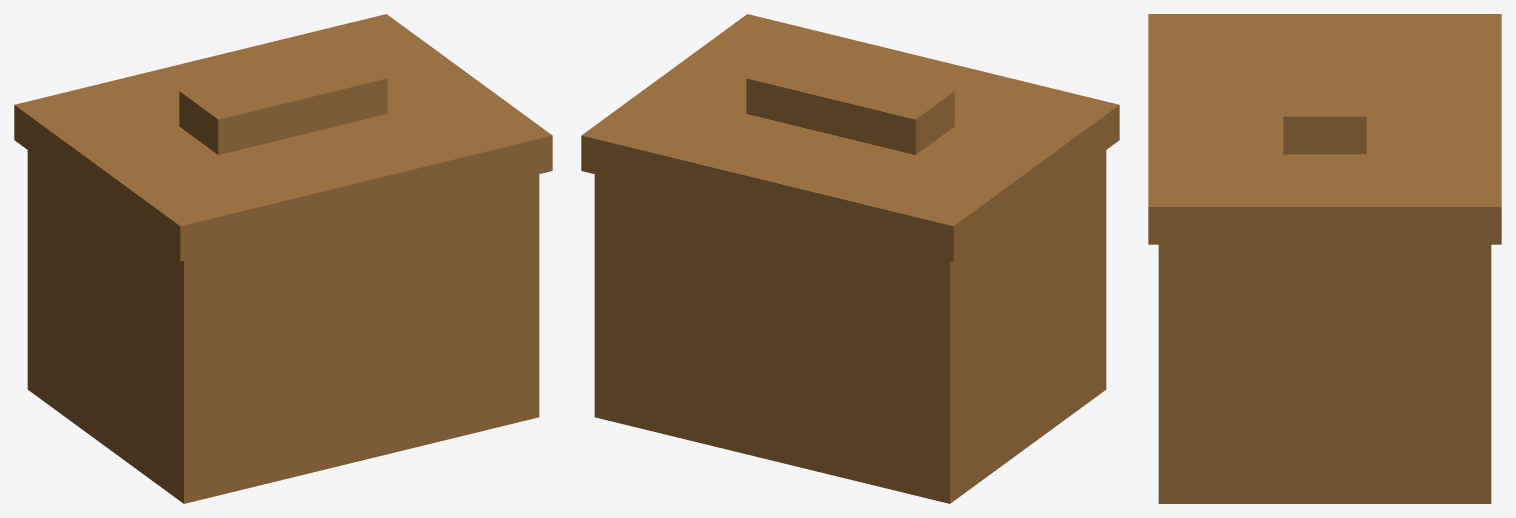
The model's file is product_can_carton.glb.
The picture shows the model from 3 angles, left to right: view 1: azimuth 30°, elevation 25°; view 2: azimuth 150°, elevation 25°; view 3: azimuth 270°, elevation 25°; orthographic projection. The views are drawn at different scales.
Parts seen in each view (by area): view 1: ProductArt_body; view 2: ProductArt_body; view 3: ProductArt_body.
Part boxes in pixels (x1,y1,x2,y2): ProductArt_body: (14, 14, 552, 503); ProductArt_body: (581, 14, 1119, 503); ProductArt_body: (1148, 14, 1501, 503).
Bounding box in the file's own units: 0.24 × 0.1964 × 0.1855.
